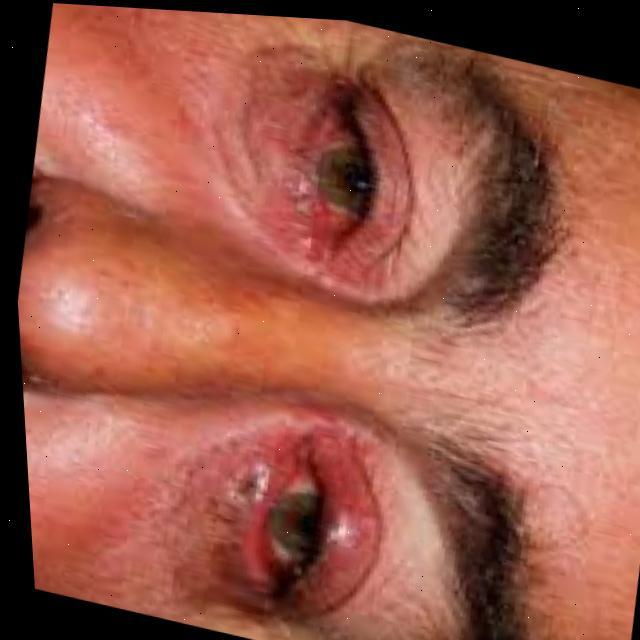Rosacea: (278, 426, 388, 595)
